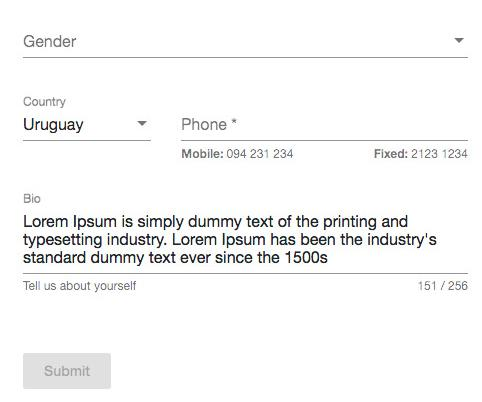button: (19, 349, 113, 392)
field_line: (17, 27, 474, 61), (174, 111, 470, 145), (20, 112, 153, 143)
field_line_with_label: (16, 95, 153, 144)
